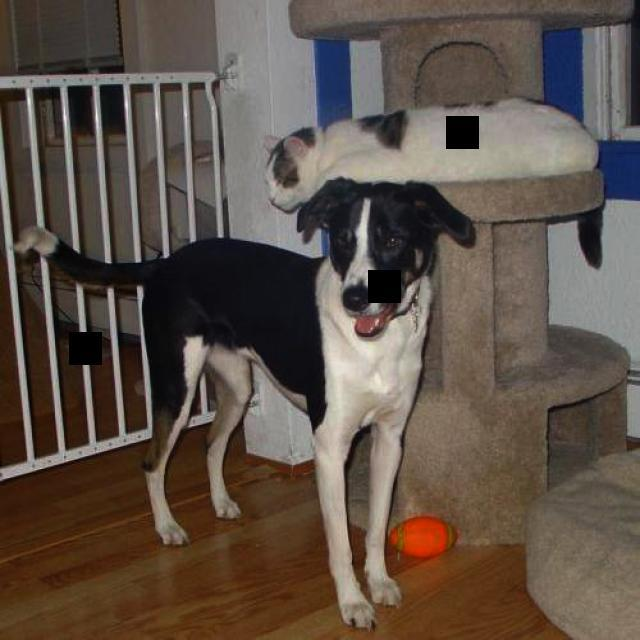adult_dog: (14, 179, 482, 635)
non-dog: (265, 98, 605, 270)
